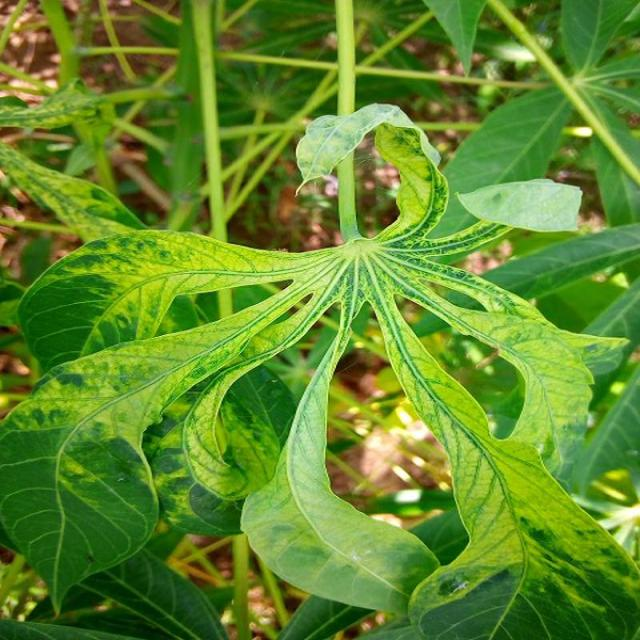cassava leaf: (1, 98, 638, 637)
